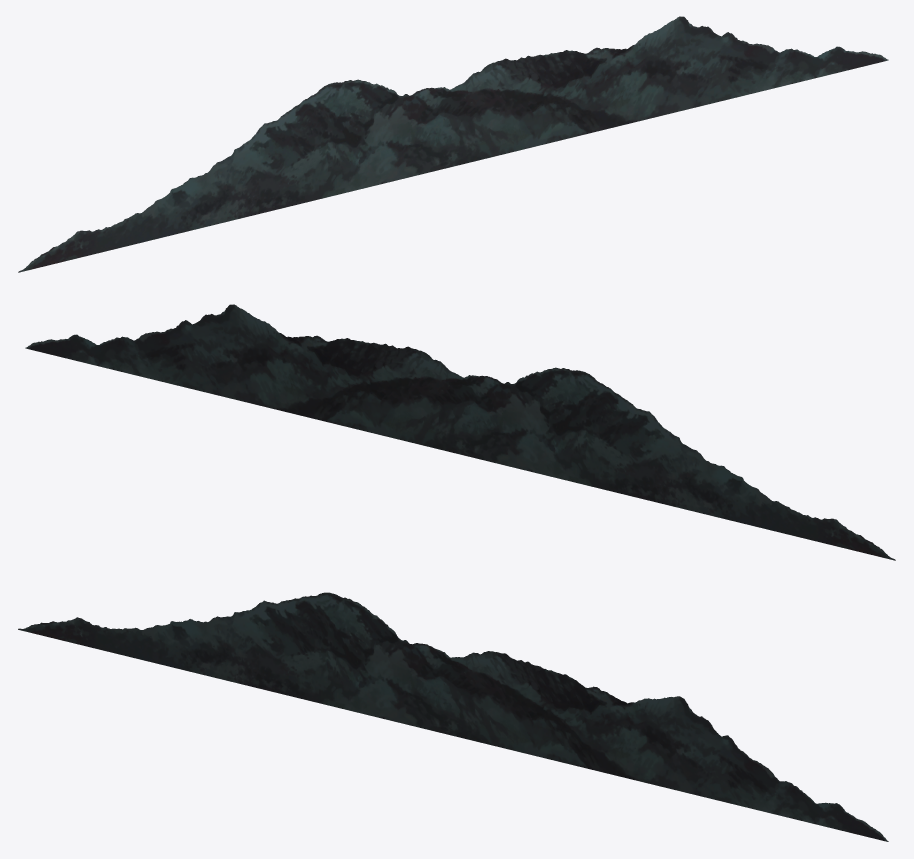
The model's file is EnmuFarHill.fbx.
3 views of the same model, one above another, from view 1: azimuth 30°, elevation 25°; view 2: azimuth 150°, elevation 25°; view 3: azimuth 330°, elevation 25° (orthographic).
Parts seen in each view (by area): view 1: SM_a_006_far_hill_03a.001; view 2: SM_a_006_far_hill_03a.001; view 3: SM_a_006_far_hill_03a.001.
Part boxes in pixels (box(x1,y1,x2,y2)): SM_a_006_far_hill_03a.001: box(18, 16, 888, 272); SM_a_006_far_hill_03a.001: box(25, 304, 895, 560); SM_a_006_far_hill_03a.001: box(18, 592, 888, 841).
Bounding box in the file's own units: 391 × 48.83 × 3.69e-06.
